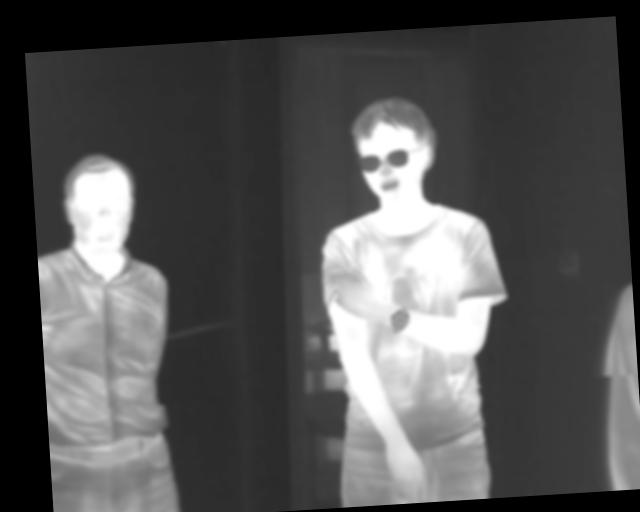face: (347, 92, 440, 206), (59, 150, 138, 260)
